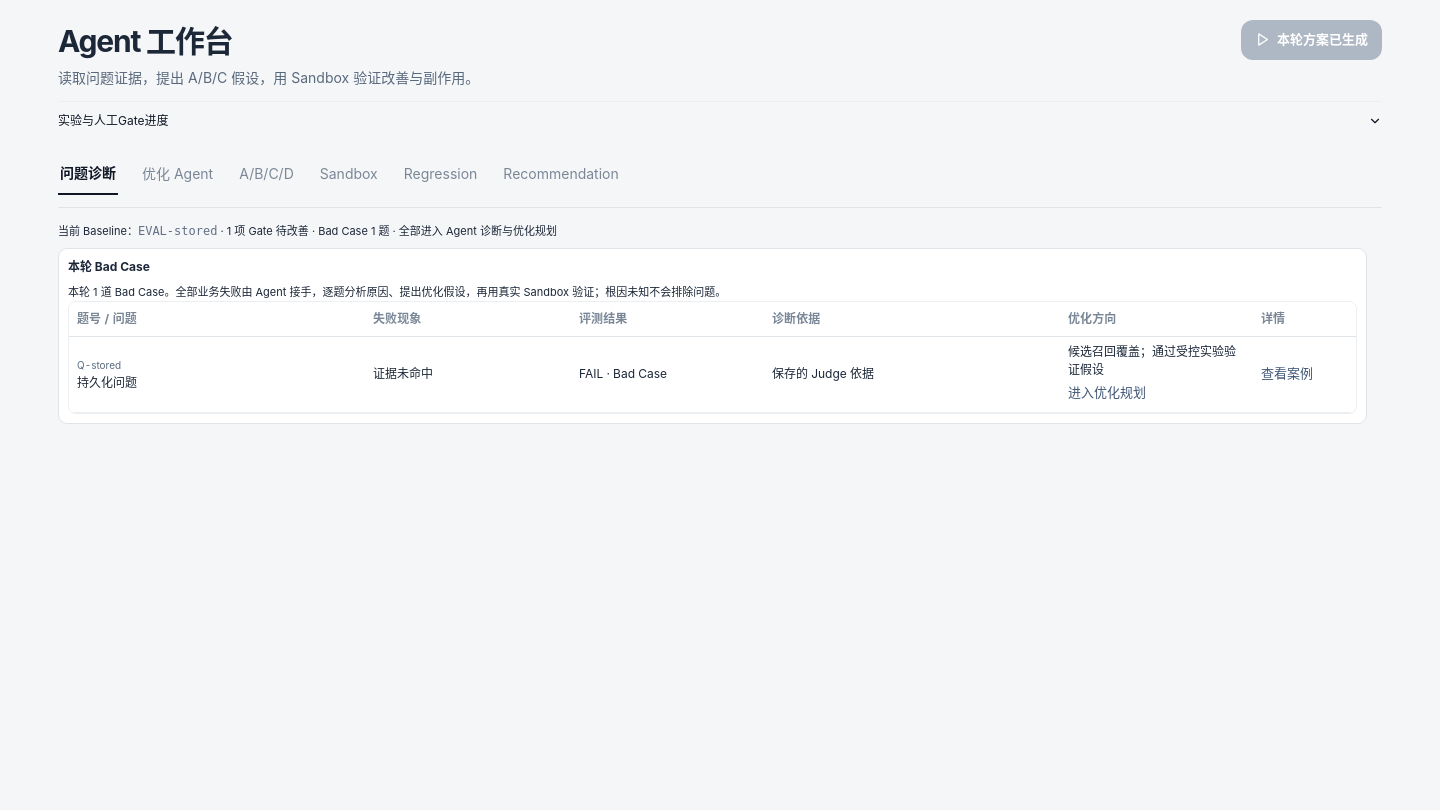
Test: reports Composite D generated without inventing failure or replacing the saved Winner
Click the button "A/B/C/D": x=266, y=174 [237, 152, 296, 195]
(page scrolled)
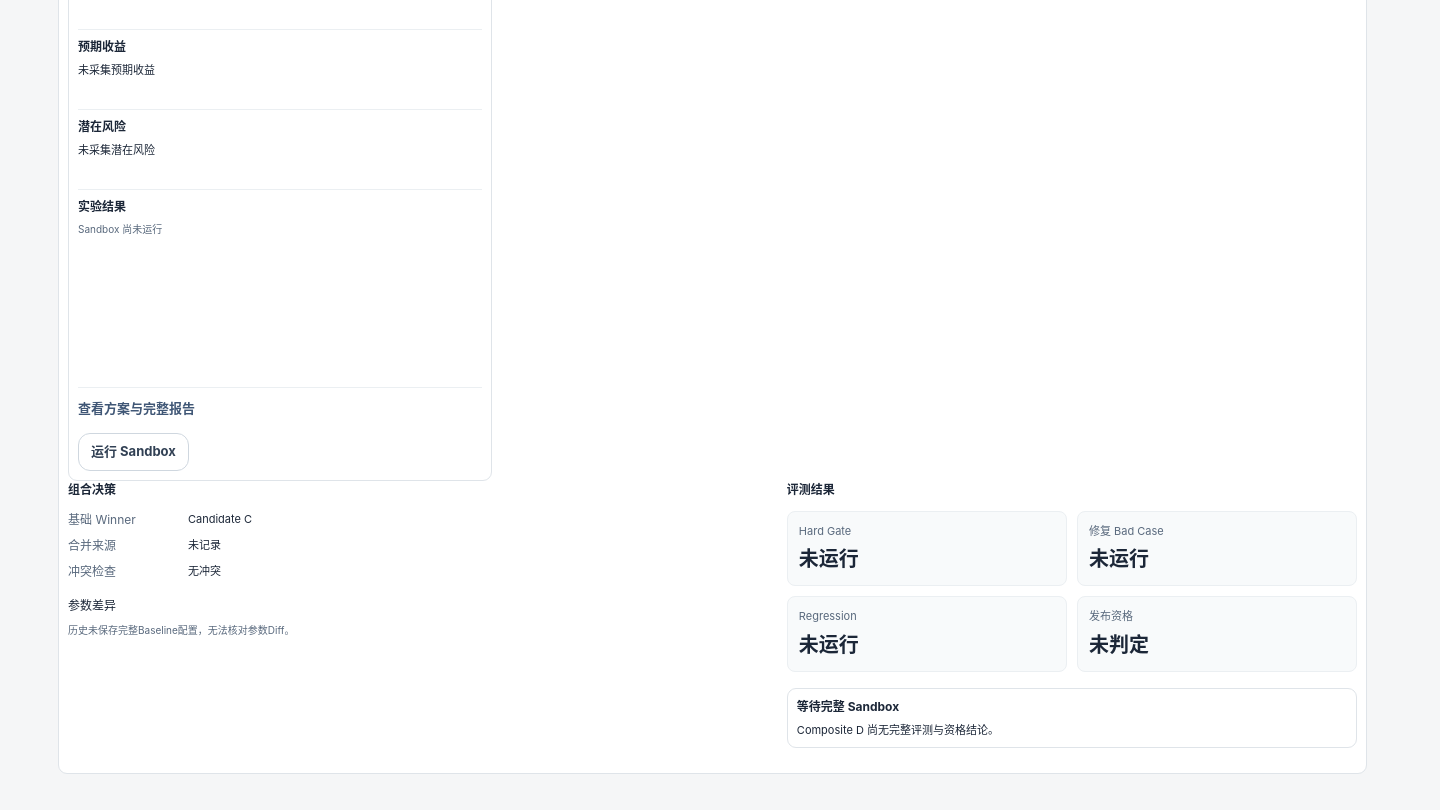
Now the element with class "composite-decision" shows "等待完整 Sandbox", box [797, 699, 899, 714]
